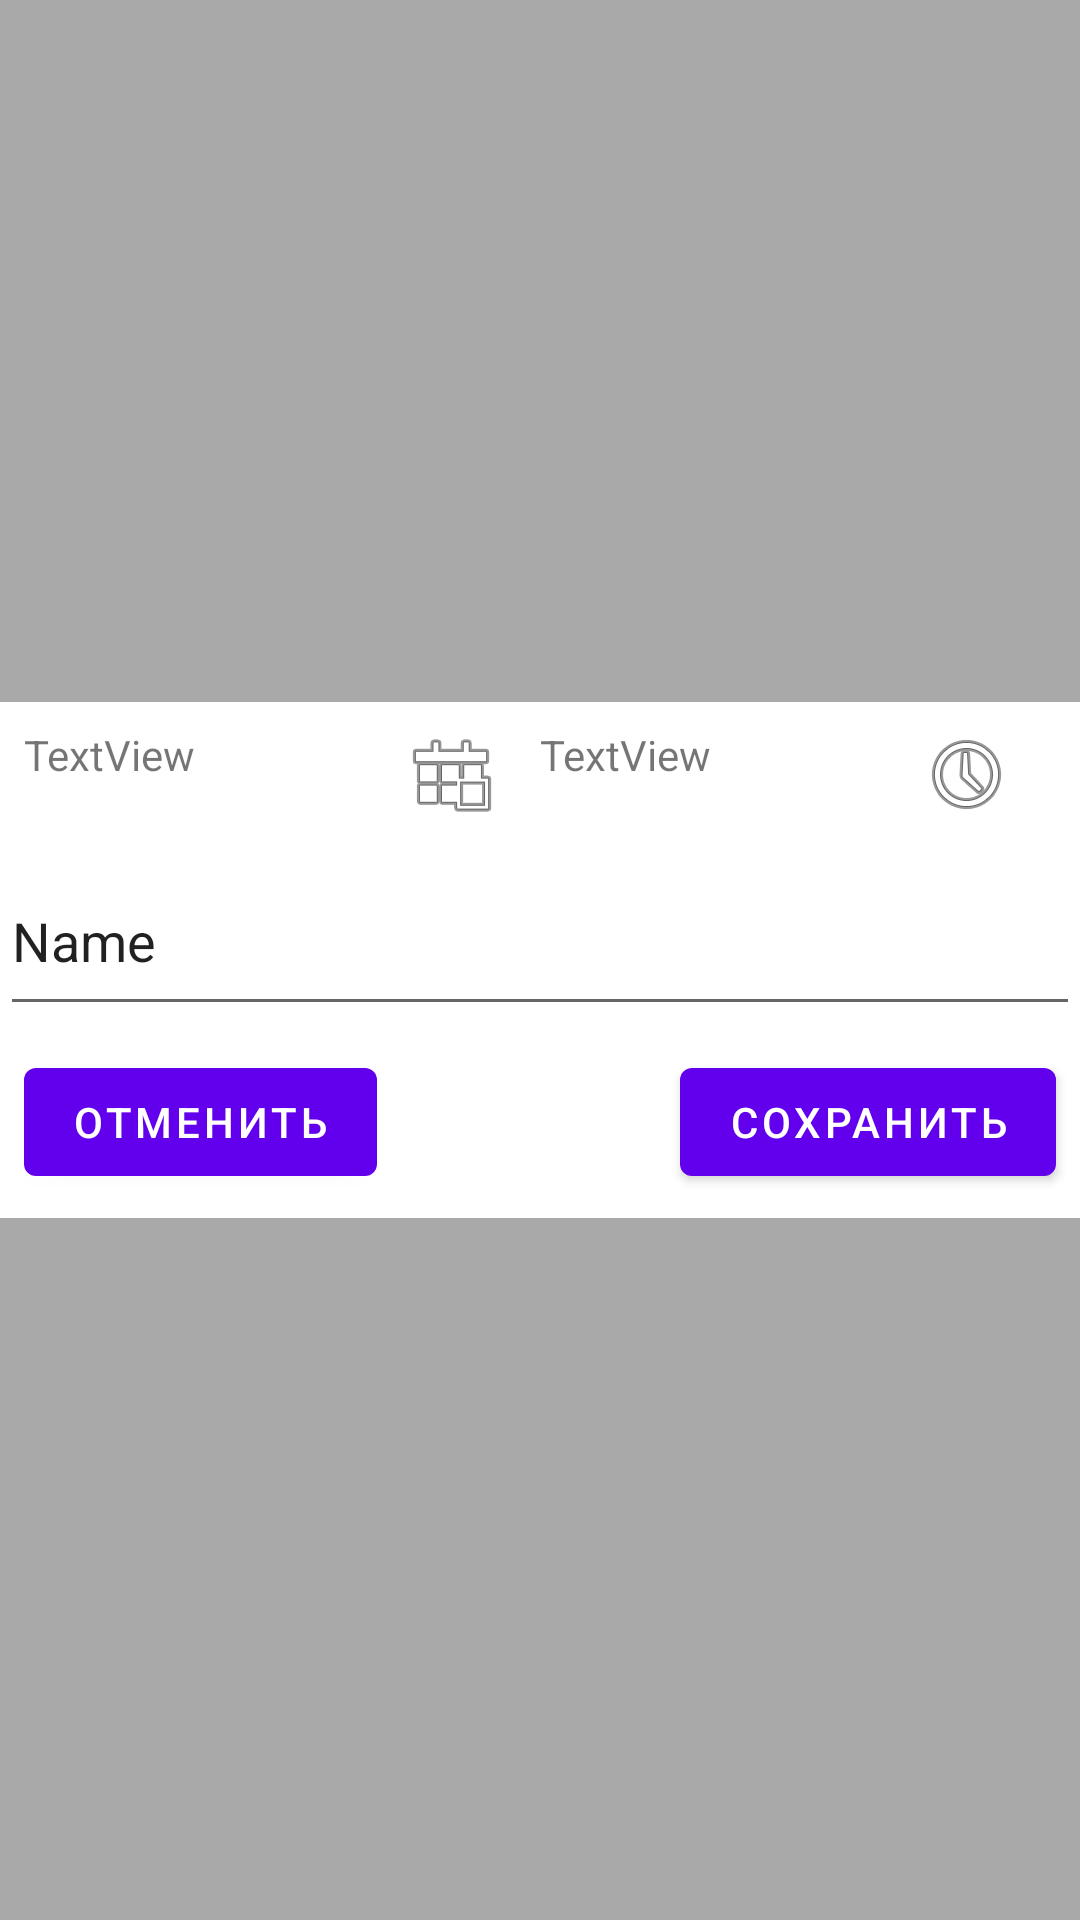

Icon click points for this 1080x1920 phone screenshot, format [x,y]:
recent history: [966,774]
today: [452,775]
